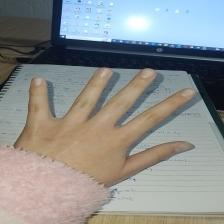five: (6, 60, 209, 208)
